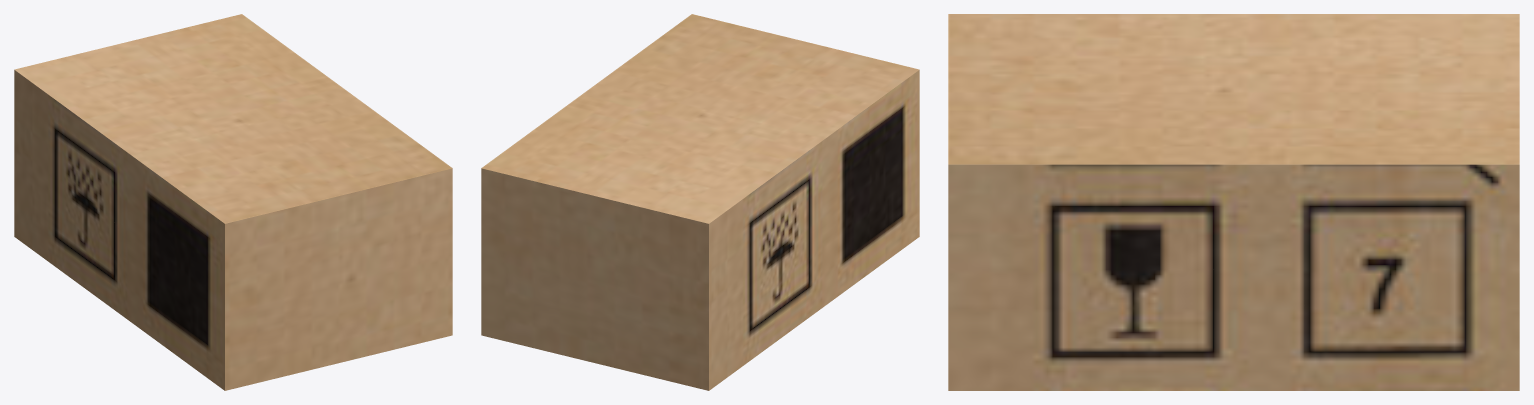
The model's file is Caja carton 2.fbx.
3 views of the same model, side by side, from view 1: azimuth 30°, elevation 25°; view 2: azimuth 150°, elevation 25°; view 3: azimuth 270°, elevation 25° (orthographic). The views are drawn at different scales.
Parts seen in each view (by area): view 1: Cube.016; view 2: Cube.016; view 3: Cube.016.
Boxes of the visible parts, x1,y1,x2,y2 form: Cube.016: (14, 14, 452, 390); Cube.016: (481, 14, 919, 390); Cube.016: (948, 14, 1519, 390).
Bounding box in the file's own units: 0.558 × 0.3911 × 0.8943.
